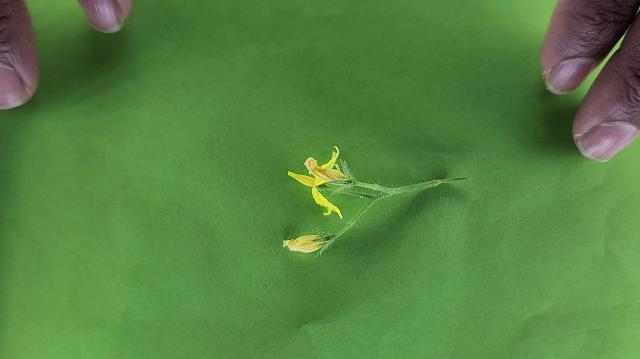Anthesis: (286, 147, 348, 219), (281, 225, 339, 254)
